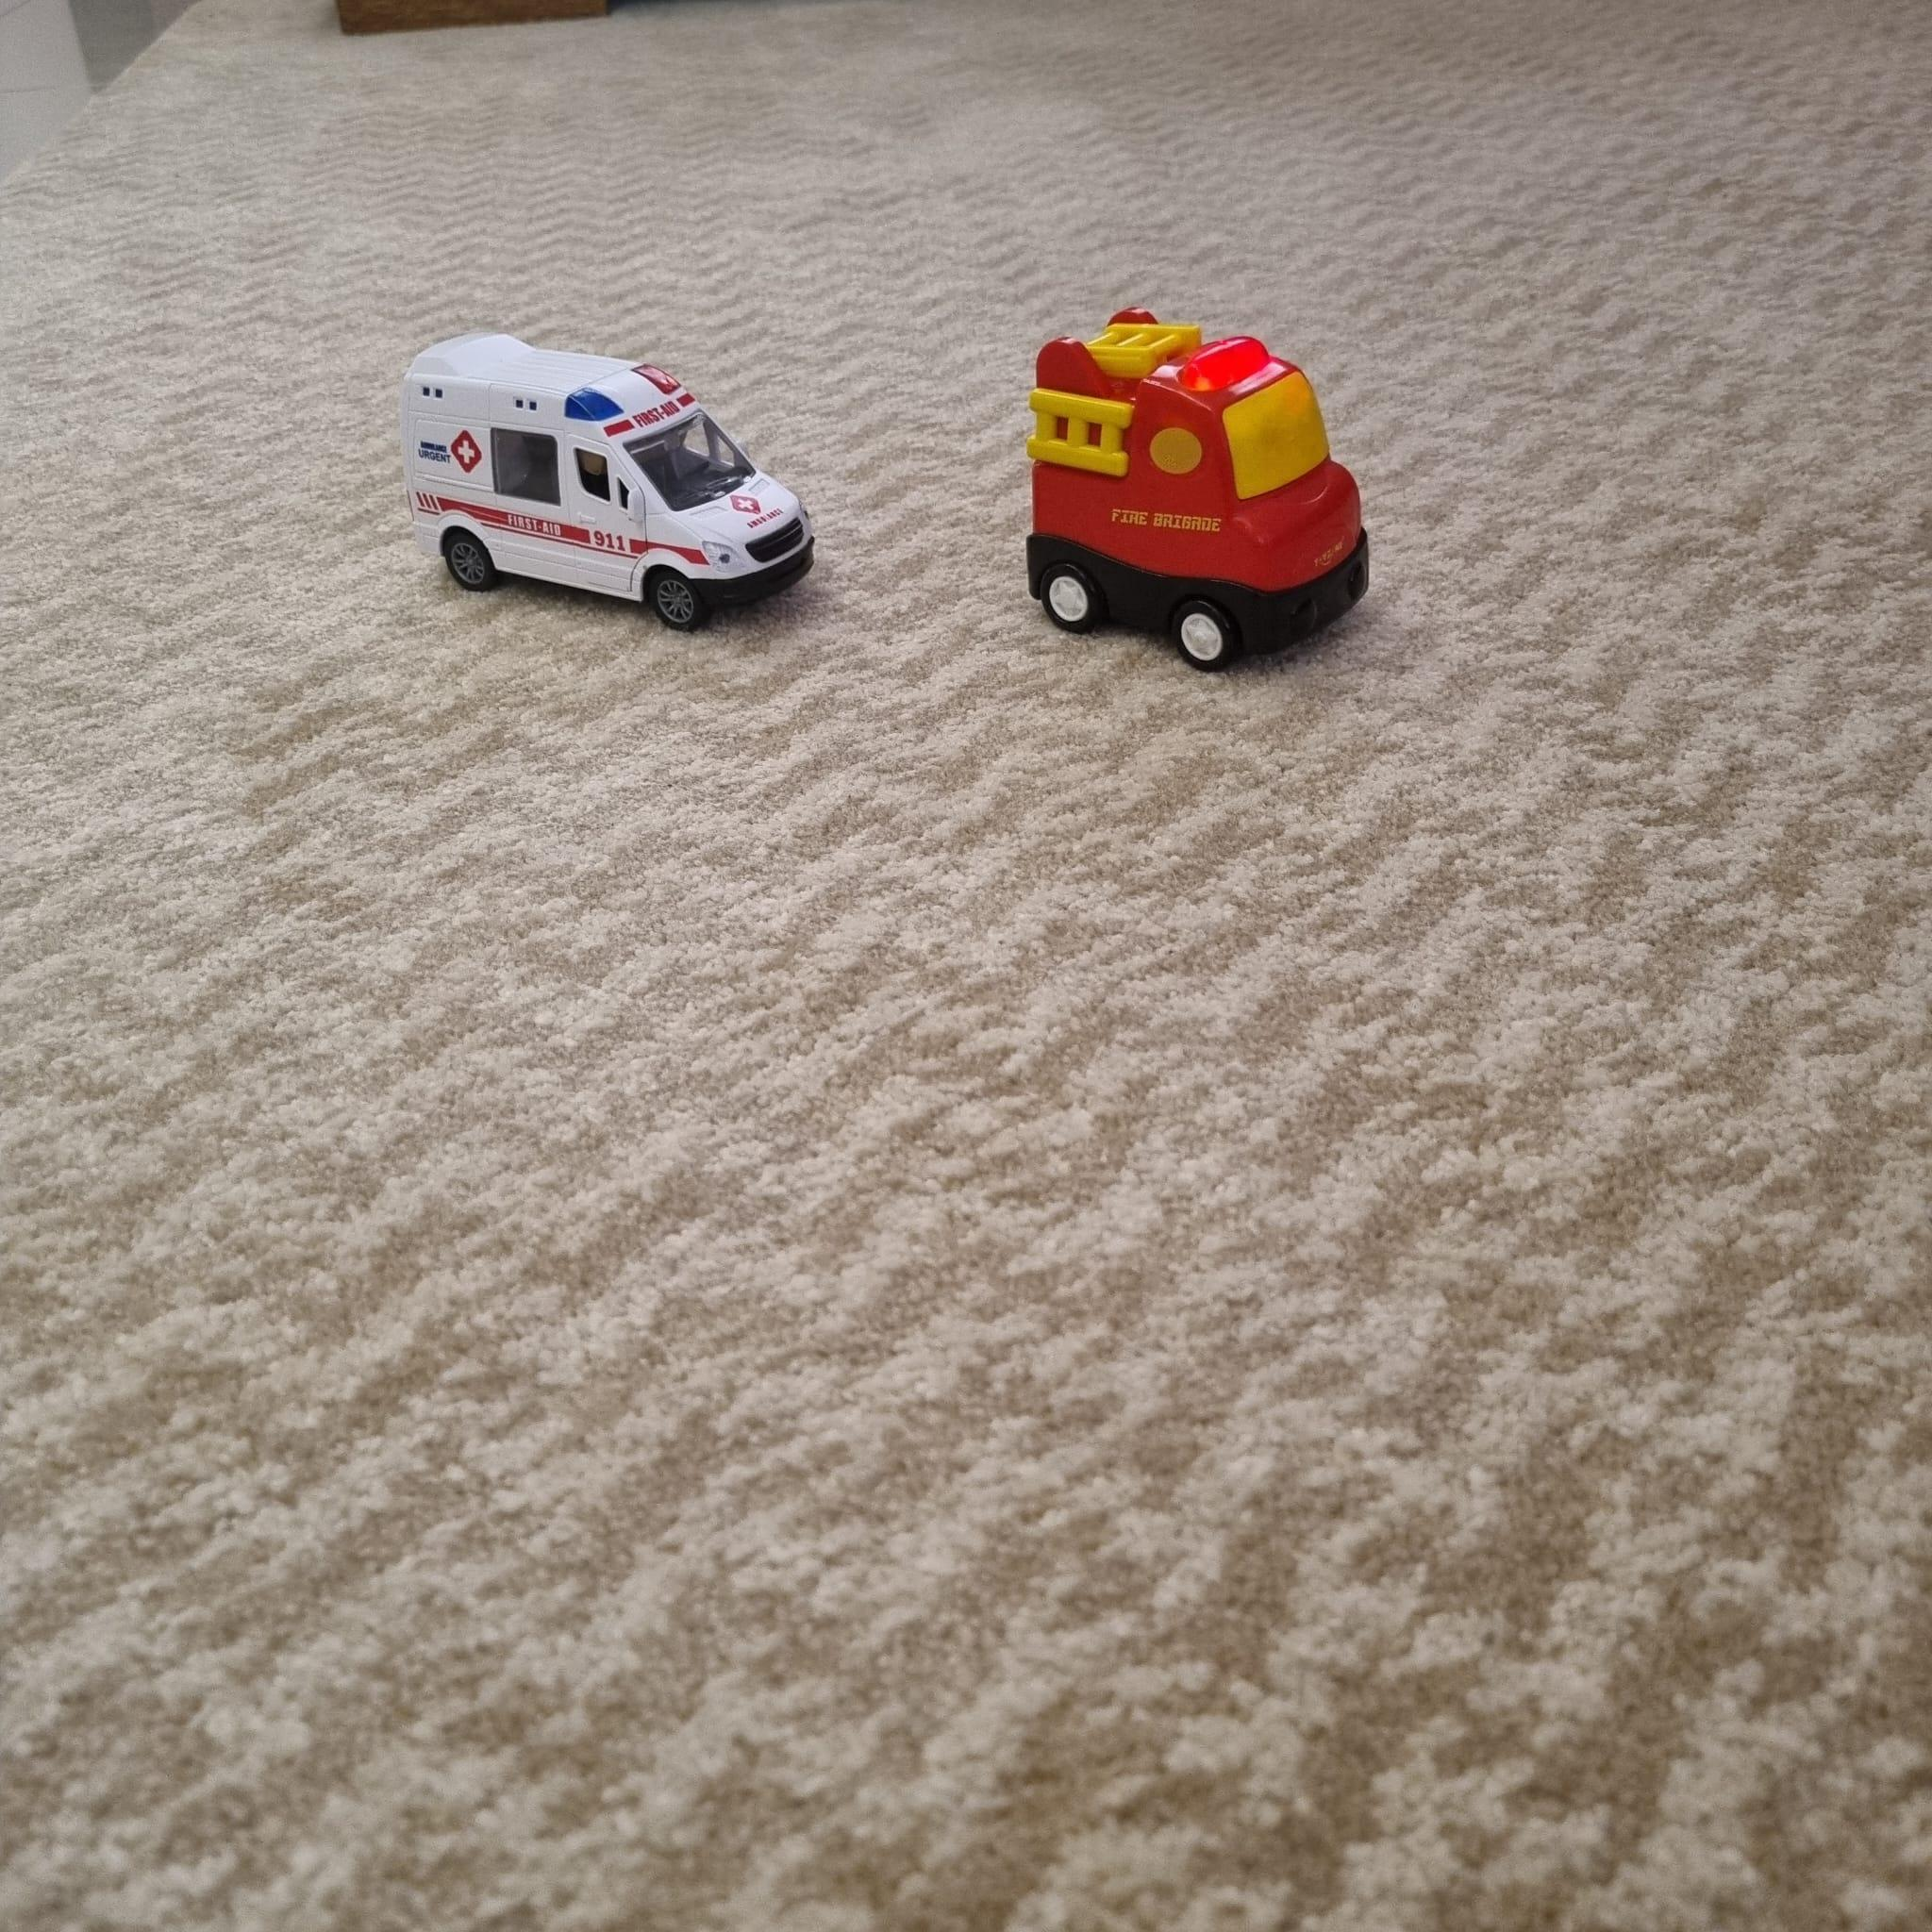ambulance_on: (395, 327, 814, 635)
firetruck_on: (1023, 303, 1368, 674)
